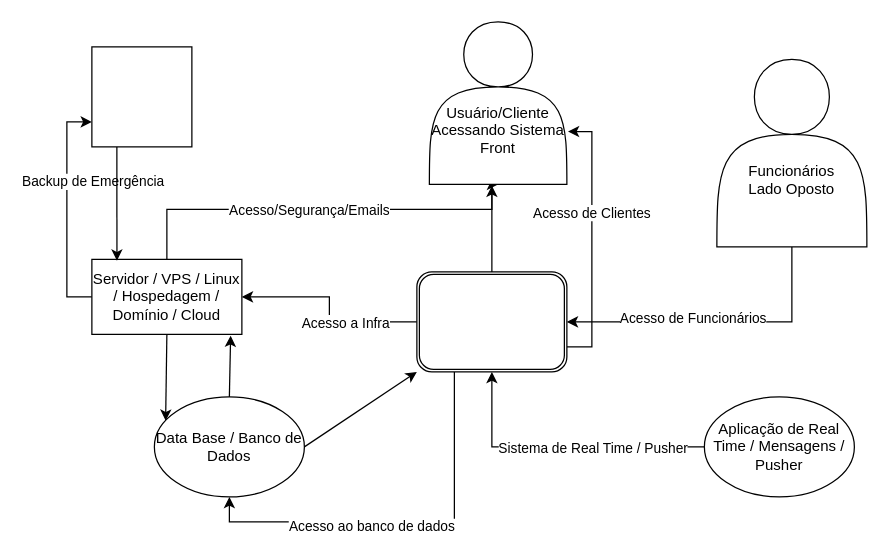
Some shapes in this 889 by 556 pixel diagram are drawn without their labels. Each missing label, with the centre of its shape:
"Load Balance / Backup" belongs at (141,96).
"Sistema Escalável / Aplicação Dashboard" belongs at (491,321).
